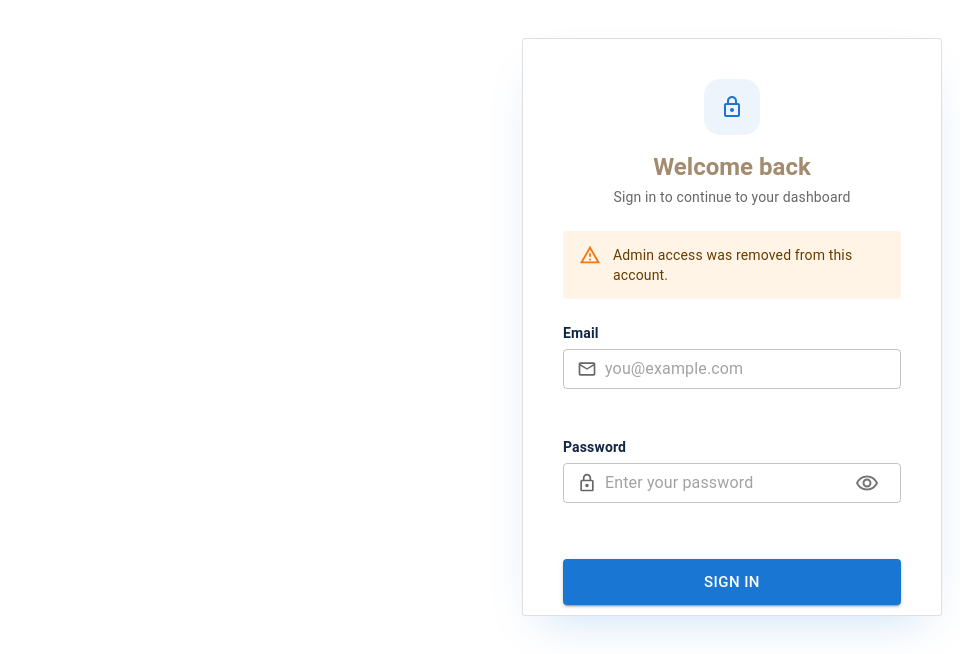
it: SignInPage › the reason goes away once the admin types the email, and ?next= is kept
Expected: the message "Admin access was removed from this account." is shown, top-left (563, 231), bottom-right (901, 299)
Type "a" into the field with placeholder "you@example.com" at (753, 369), box top-left (605, 349), bottom-right (901, 389)
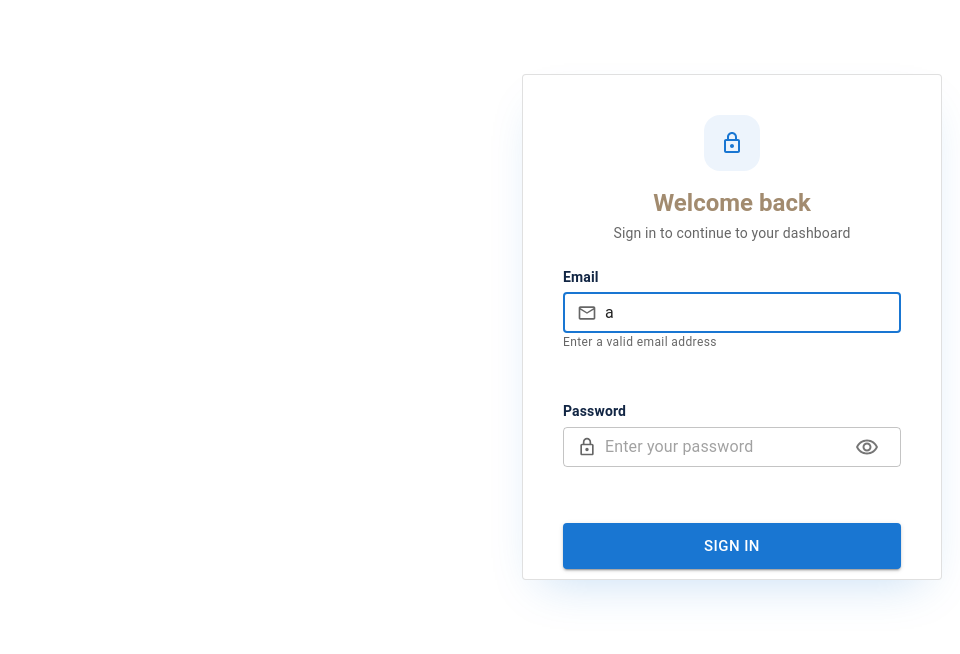
Now the message with test id "sign-out-reason" is gone
Type "admin@example.com" into the field with placeholder "you@example.com" at (753, 313), box top-left (605, 293), bottom-right (901, 333)
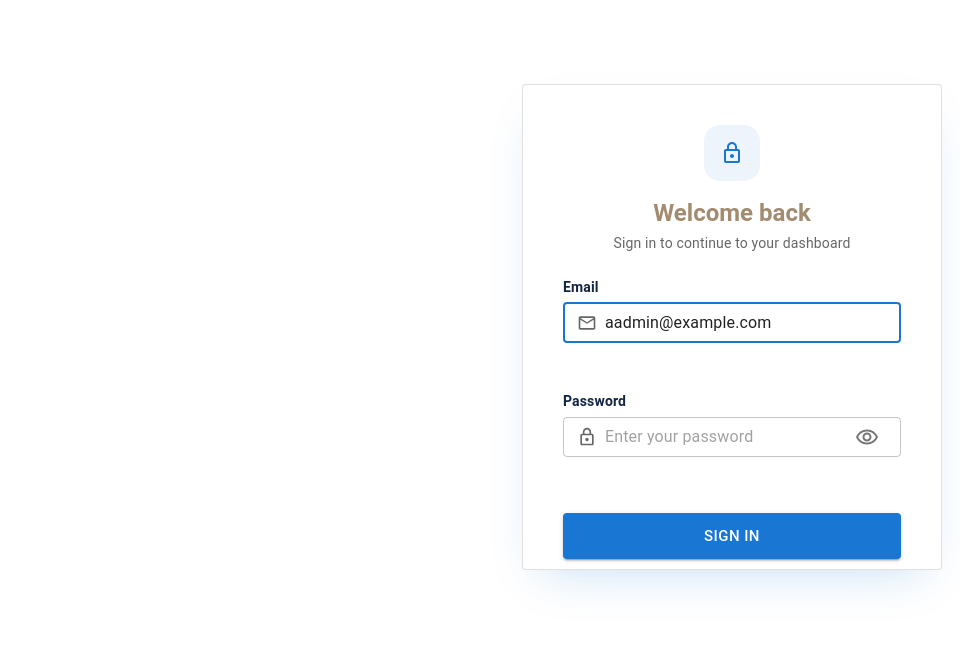
Type "secret-password" into the password field with placeholder "Enter your password" at (722, 437), box top-left (605, 417), bottom-right (839, 457)
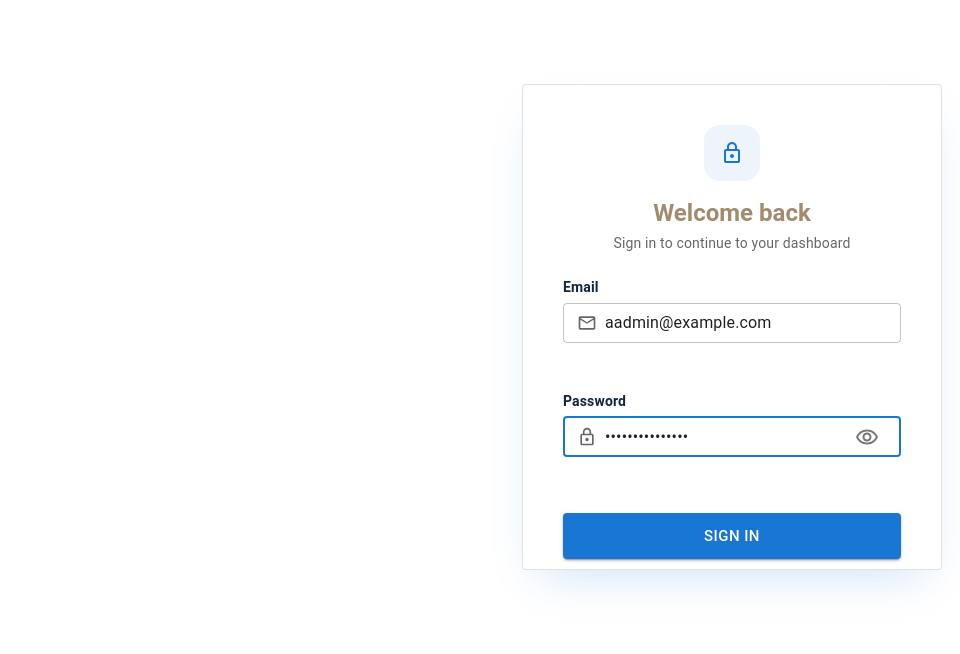
Click the button "Sign In" at (732, 536), box top-left (563, 513), bottom-right (901, 559)
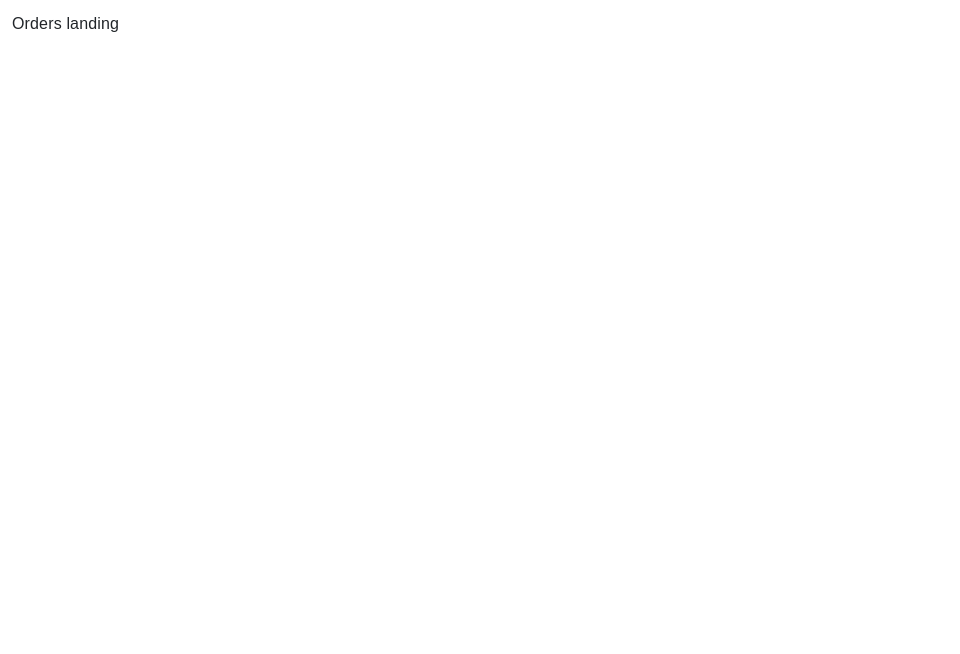
Now the text "Orders landing" is shown, box top-left (12, 15), bottom-right (119, 32)
